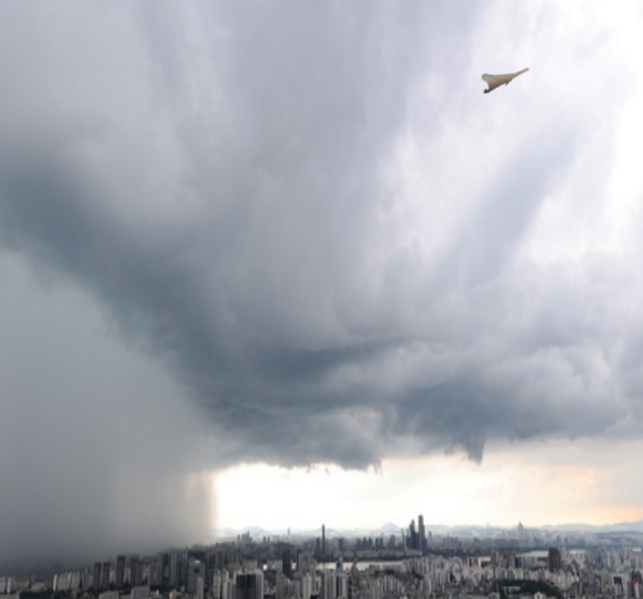military drone: (481, 67, 529, 93)
